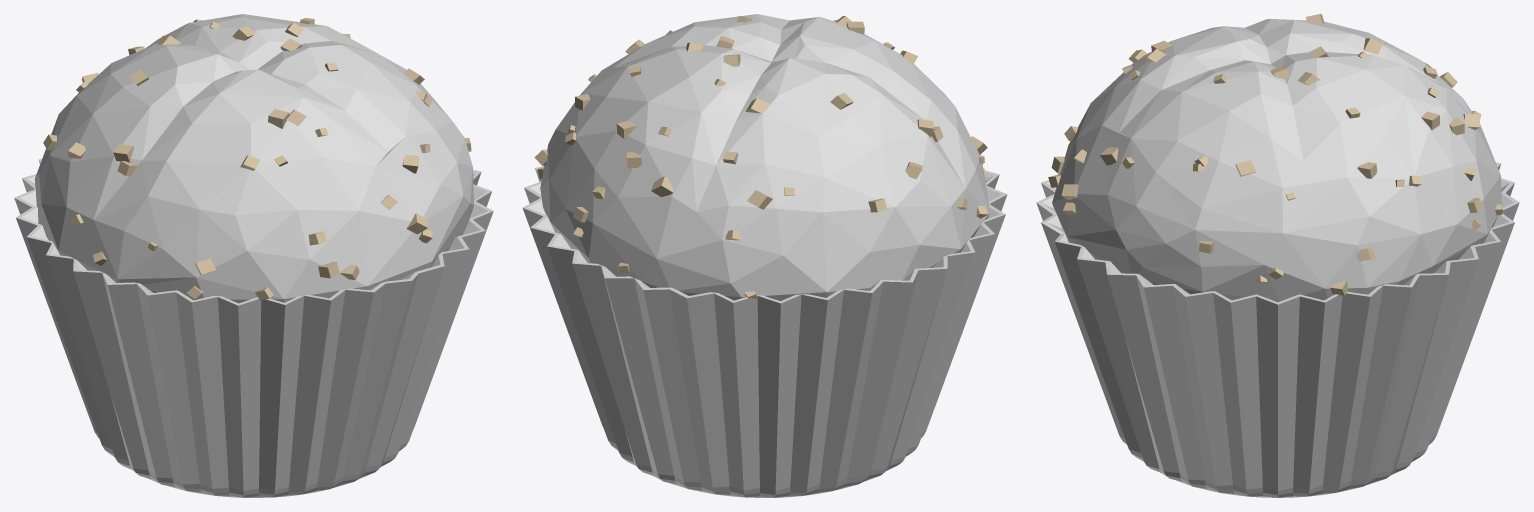
Rendered from Muffin_01.fbx.
3 renders of one model, left to right at view 1: azimuth 30°, elevation 25°; view 2: azimuth 150°, elevation 25°; view 3: azimuth 270°, elevation 25°, orthographic.
Visible parts, largest first — view 1: Muffin_01_LOD 0; view 2: Muffin_01_LOD 0; view 3: Muffin_01_LOD 0.
Boxes of the visible parts, x1,y1,x2,y2 form: Muffin_01_LOD 0: (14, 14, 493, 497); Muffin_01_LOD 0: (522, 14, 1007, 497); Muffin_01_LOD 0: (1036, 14, 1519, 497).
Size of what is drawn, in the model's own units: 5.61 by 5.04 by 5.61.
